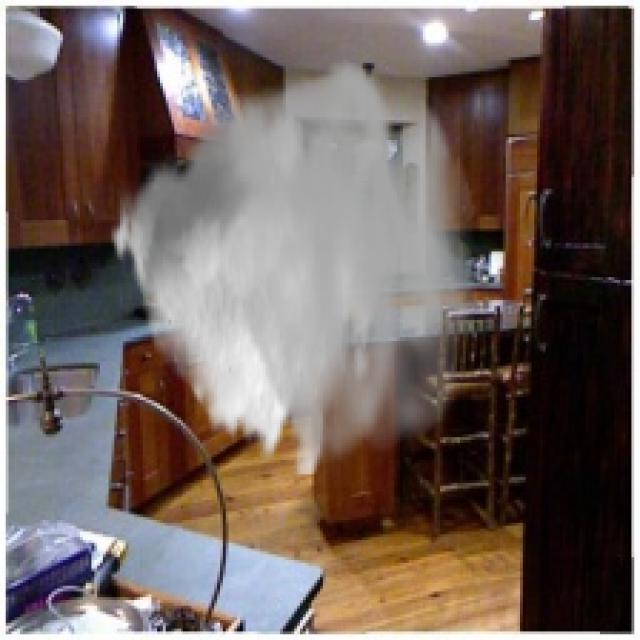Smoke: (109, 54, 478, 474)
